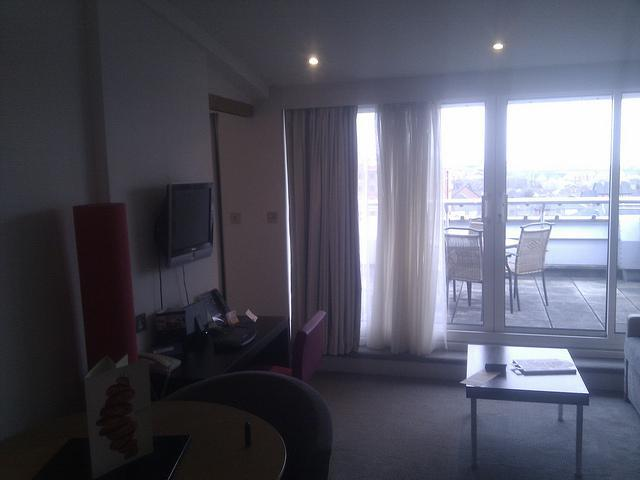tv: (157, 181, 216, 270), (509, 355, 571, 379)
